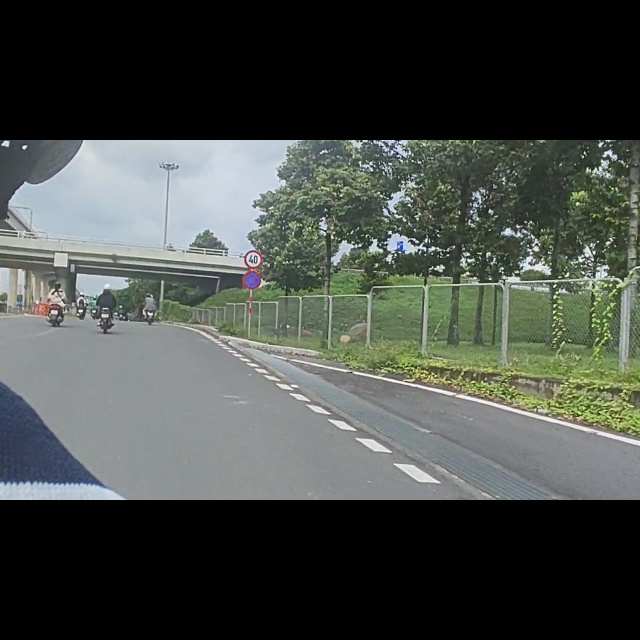bien_cam: (242, 232, 261, 265), (245, 196, 263, 229)
